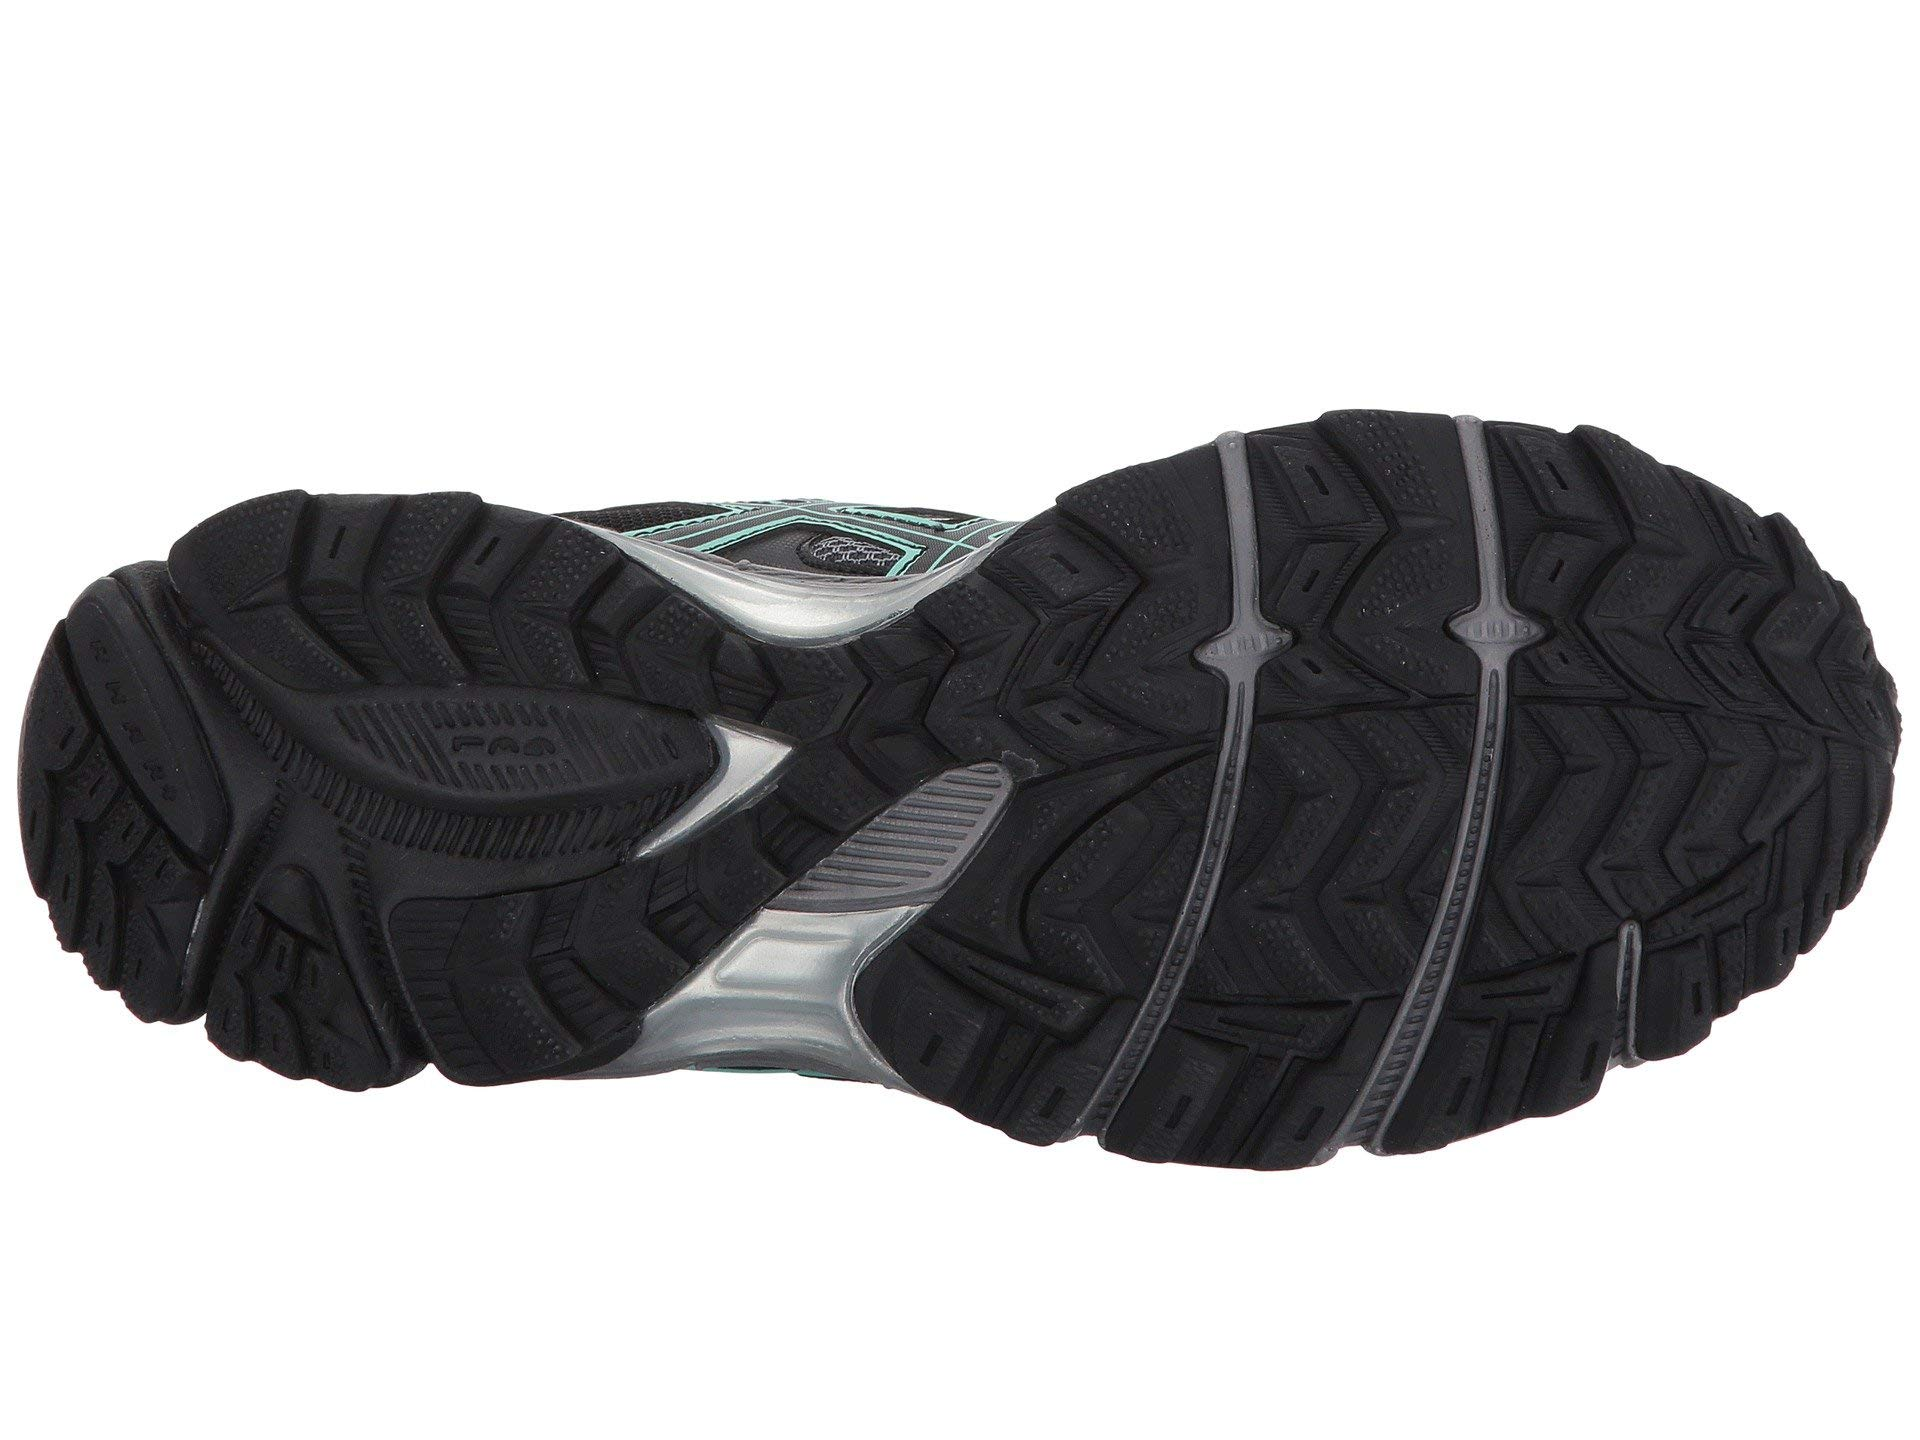chevron: (1244, 433, 1640, 1033)
line: (1244, 433, 1640, 1033), (30, 663, 240, 1012), (324, 672, 718, 839)
quad: (1244, 433, 1640, 1033), (30, 663, 240, 1012), (324, 672, 718, 839)
text: (324, 672, 718, 839)
